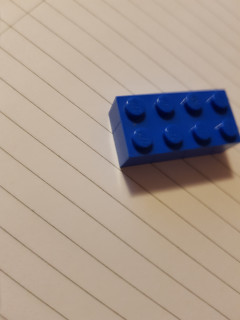2x4 blue: (108, 88, 240, 173)
